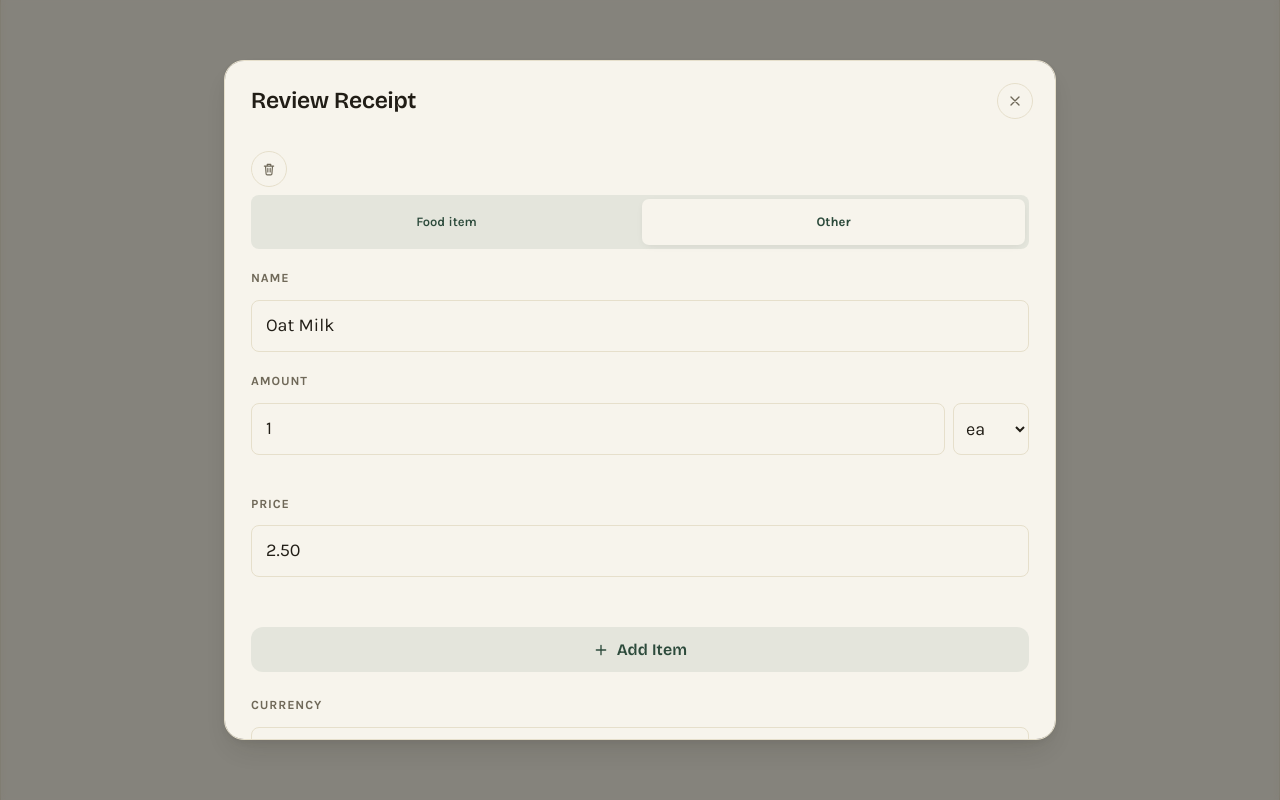
ReceiptReviewModal — toggling kind keeps the typed/matched name › still requires re-picking a food after toggling to "Food item" — a preserved name alone does not make the row submittable
This screenshot has width=1280, height=800.
Click the button "Food item". click: (446, 222)
box: top-left (255, 199), bottom-right (638, 245)
(page scrolled)
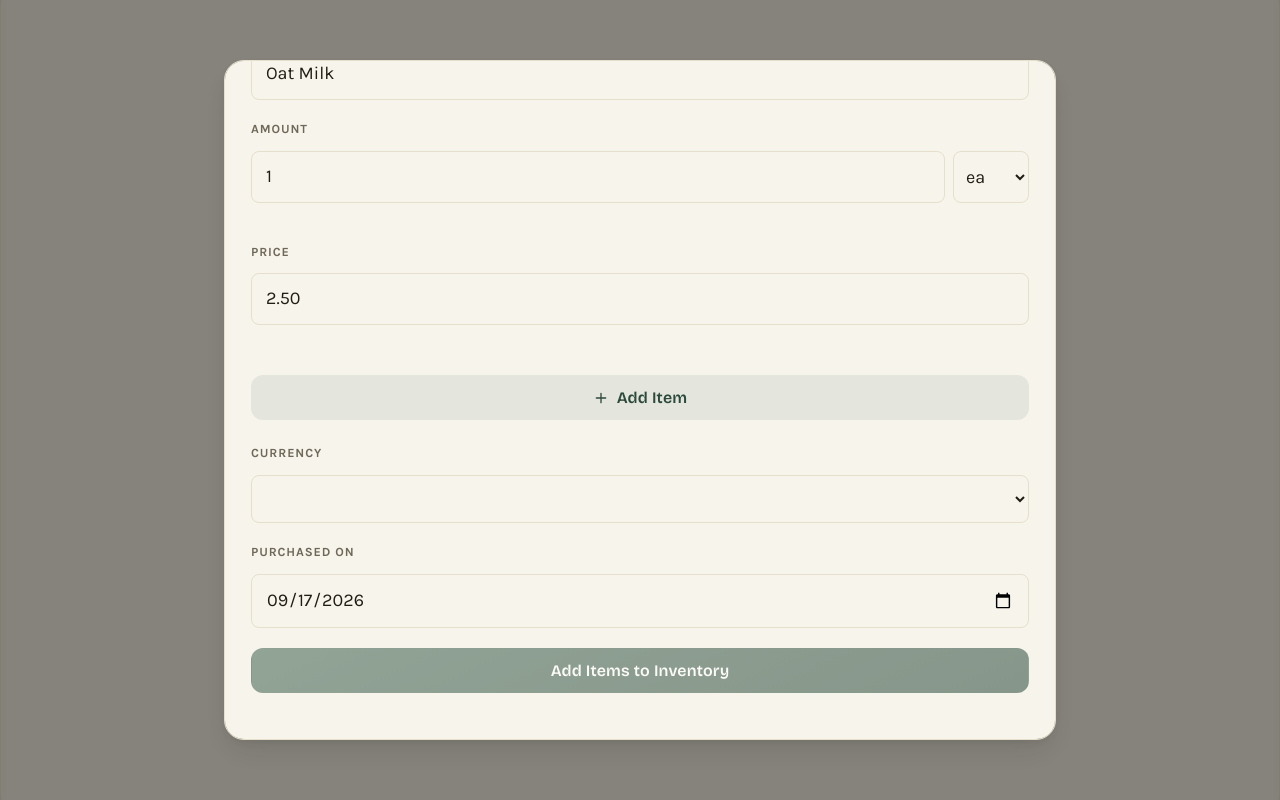
Expected: the button "Add Items to Inventory" is disabled, top-left (251, 648), bottom-right (1029, 693)
